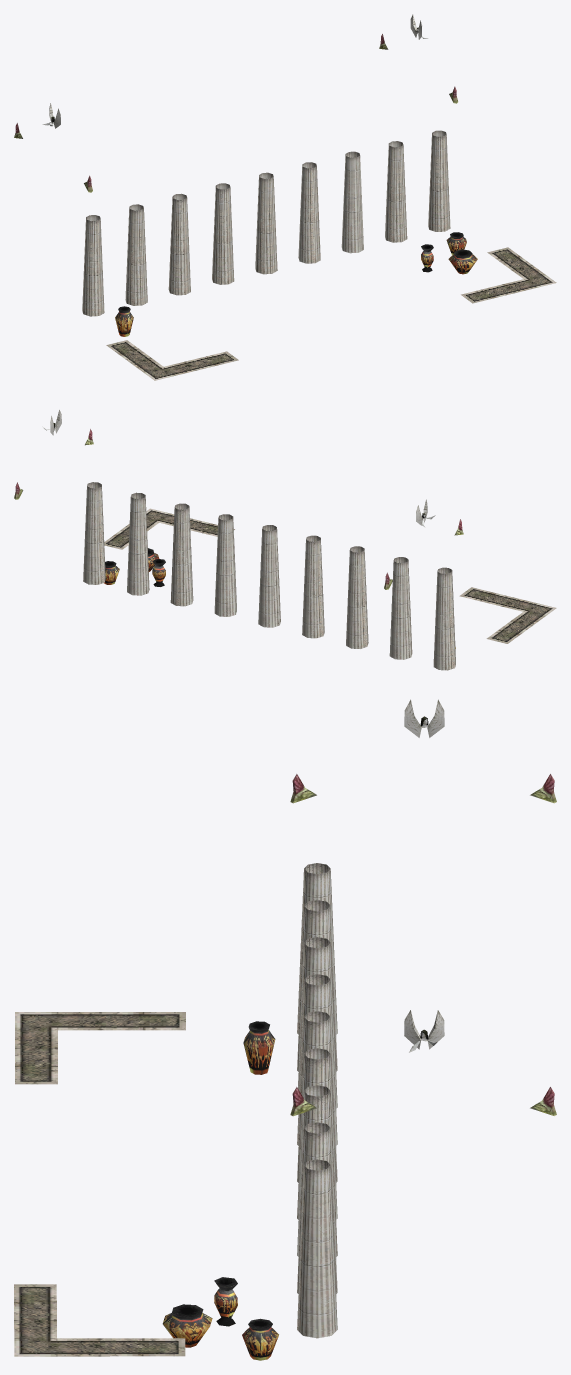
File: hele_stoa2_props_new.dae
The picture shows the model from 3 angles, top to bottom: view 1: azimuth 30°, elevation 25°; view 2: azimuth 150°, elevation 25°; view 3: azimuth 270°, elevation 25°; orthographic projection. The views are drawn at different scales.
Visible parts, largest first — view 1: Object1037-Pivot; view 2: Object1037-Pivot; view 3: Object1037-Pivot.
Part boxes in pixels (x1,y1,x2,y2): Object1037-Pivot: (14, 14, 556, 380); Object1037-Pivot: (14, 410, 556, 670); Object1037-Pivot: (14, 699, 556, 1360).
Size of the model in its own units: 27.47 by 18.3 by 13.11.
